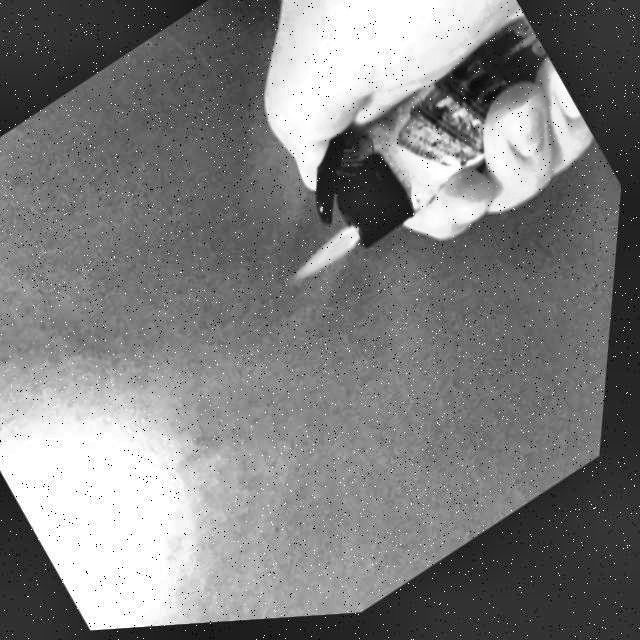Fire: (293, 224, 372, 289)
